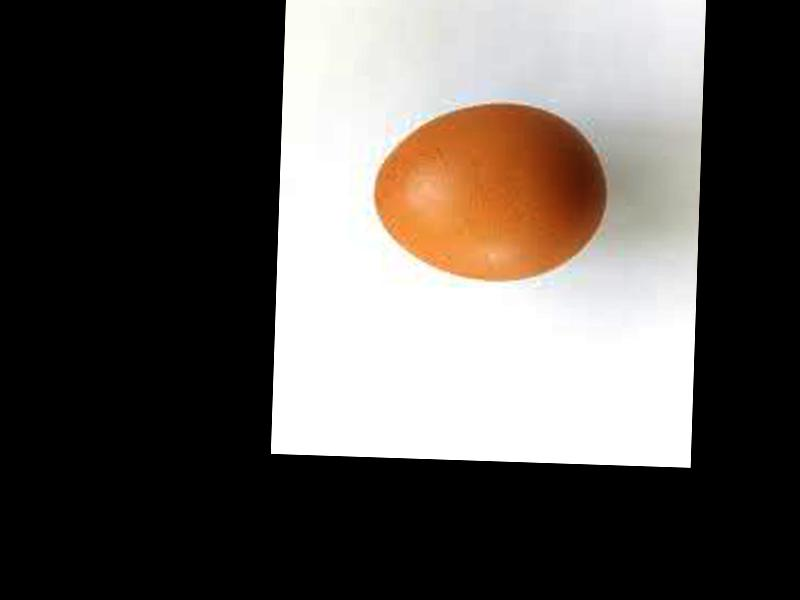Eggs: (368, 97, 611, 282)
